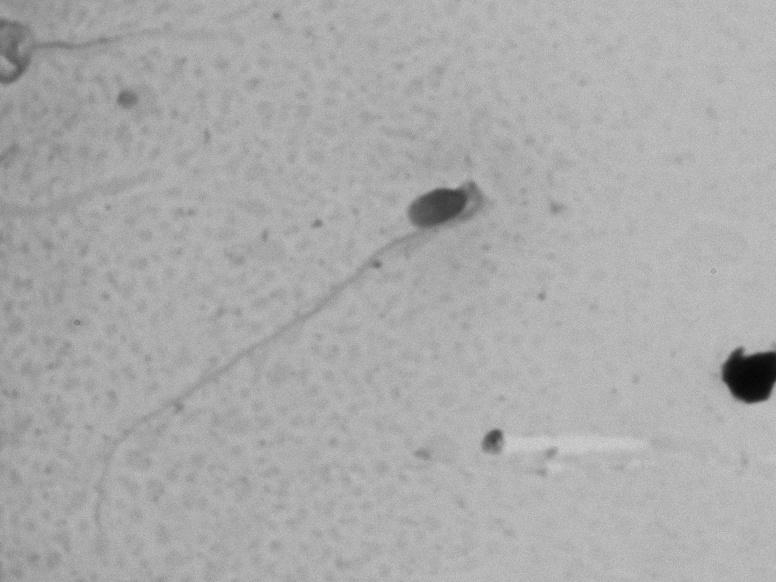Abnormal: (110, 148, 499, 492)
